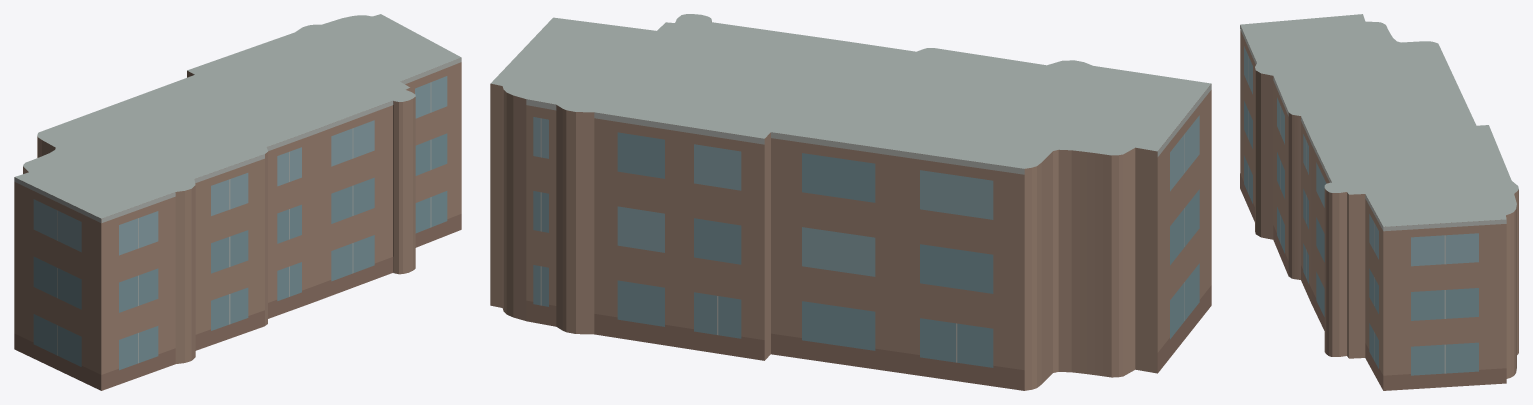
Rendered from survey-upis-32470391.glb.
The picture shows the model from 3 angles, left to right: view 1: azimuth 30°, elevation 25°; view 2: azimuth 150°, elevation 25°; view 3: azimuth 270°, elevation 25°; orthographic projection. The views are drawn at different scales.
Visible parts, largest first — view 1: survey-upis-32470391.tmp; view 2: survey-upis-32470391.tmp; view 3: survey-upis-32470391.tmp.
Boxes of the visible parts, box(x1,y1,x2,y2) form: survey-upis-32470391.tmp: box(14, 14, 461, 390); survey-upis-32470391.tmp: box(490, 14, 1211, 390); survey-upis-32470391.tmp: box(1240, 14, 1518, 390).
Bounding box in the file's own units: 25.48 × 9.15 × 14.1.
